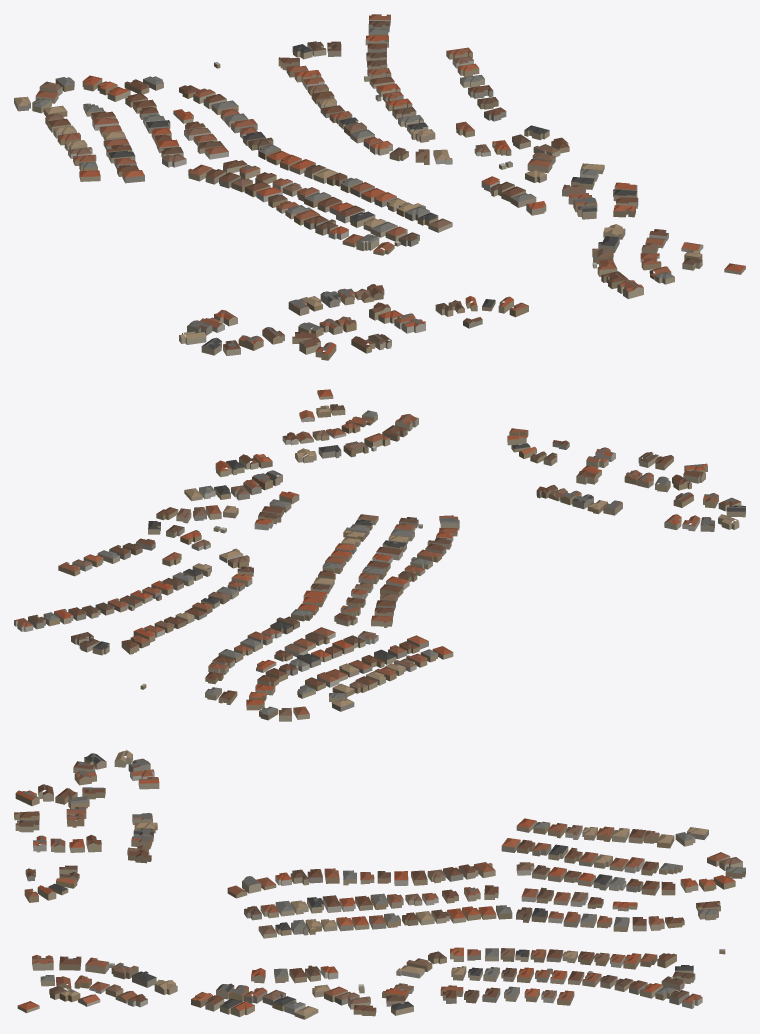
The picture shows the model from 3 angles, top to bottom: view 1: azimuth 30°, elevation 25°; view 2: azimuth 150°, elevation 25°; view 3: azimuth 270°, elevation 25°; orthographic projection. The views are drawn at different scales.
Parts seen in each view (by area): view 1: buildings_r0_c6_lod1; view 2: buildings_r0_c6_lod1; view 3: buildings_r0_c6_lod1.
Part boxes in pixels (x1,y1,x2,y2): buildings_r0_c6_lod1: (14, 14, 745, 360); buildings_r0_c6_lod1: (14, 389, 745, 721); buildings_r0_c6_lod1: (14, 750, 745, 1019).
Bounding box in the file's own units: 571 × 47.82 × 722.
